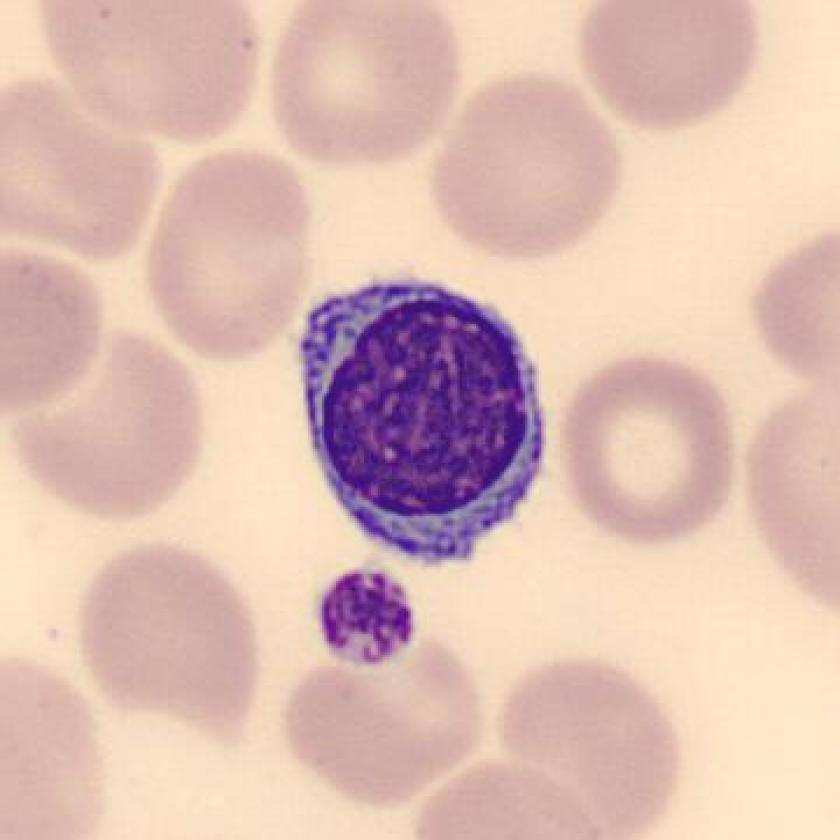lymphocyte: (281, 269, 556, 575)
